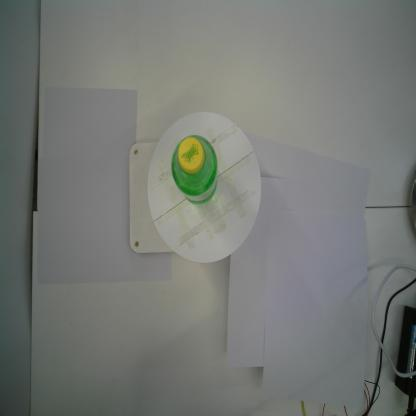Drink: (170, 133, 220, 206)
